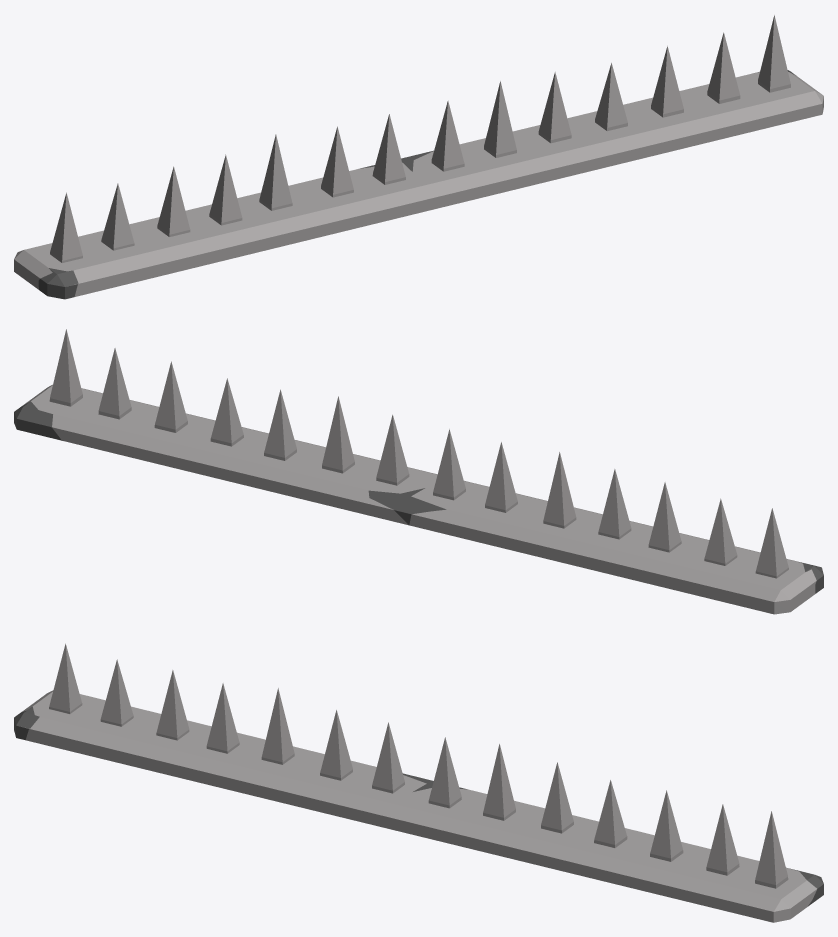
Rendered from MEDMetalSpikeTrap.fbx.
3 renders of one model, top to bottom at view 1: azimuth 30°, elevation 25°; view 2: azimuth 150°, elevation 25°; view 3: azimuth 330°, elevation 25°, orthographic.
Parts seen in each view (by area): view 1: MEDMetalSpikeTrap; view 2: MEDMetalSpikeTrap; view 3: MEDMetalSpikeTrap.
Part boxes in pixels (x1,y1,x2,y2): MEDMetalSpikeTrap: (14,15,823,299); MEDMetalSpikeTrap: (14,329,823,614); MEDMetalSpikeTrap: (14,643,823,922).
Size of the model in its own units: 142 by 15.63 by 15.07.
